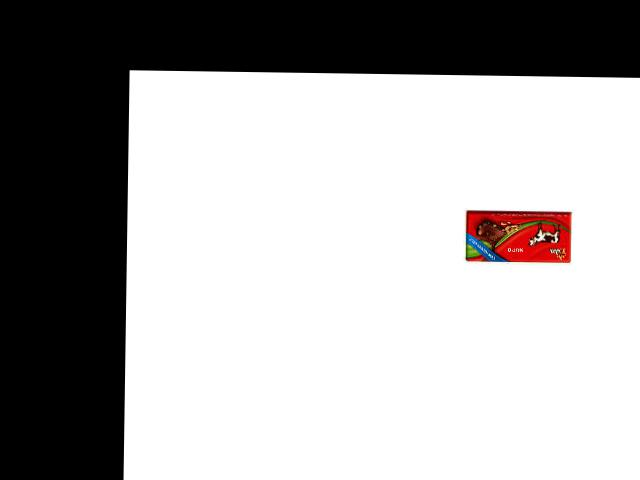chocolate: (466, 211, 576, 263)
